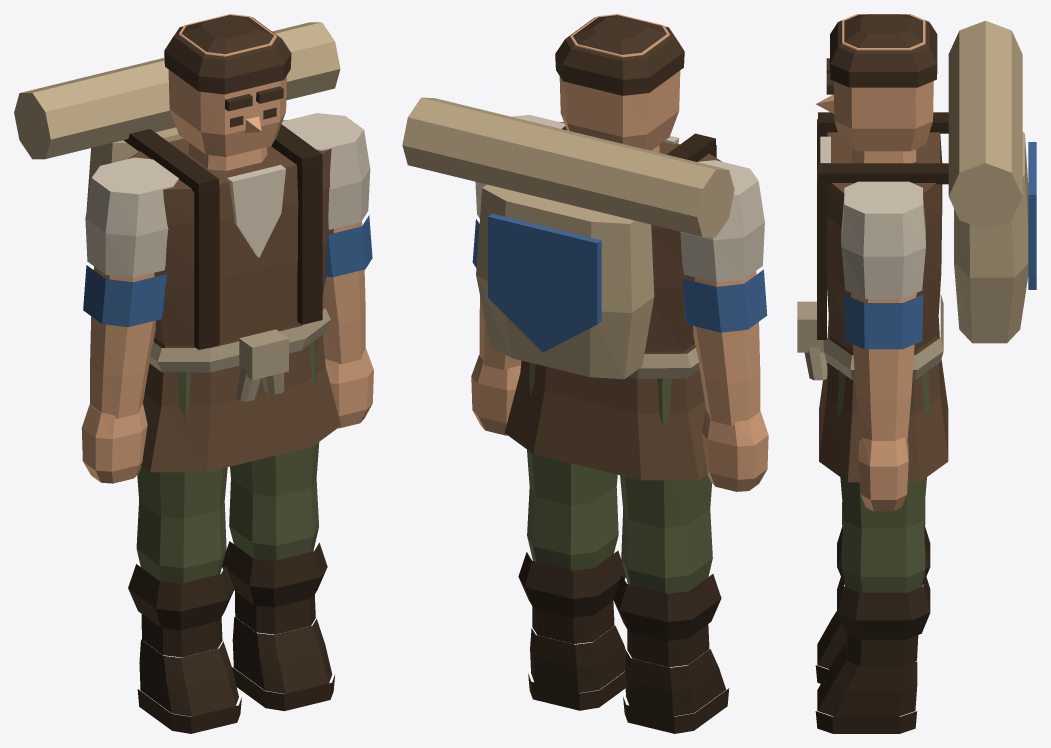
The model's file is traveller-lv1.glb.
The picture shows the model from 3 angles, left to right: view 1: azimuth 30°, elevation 25°; view 2: azimuth 150°, elevation 25°; view 3: azimuth 270°, elevation 25°; orthographic projection.
Parts seen in each view (by area): view 1: leather, tunic, skin, pants, linen, canvas, dark, rope, blue; view 2: canvas, leather, tunic, skin, pants, blue, dark, linen, rope; view 3: canvas, leather, skin, tunic, linen, pants, dark, blue, rope.
Boxes of the visible parts, left/top/right/bottom form: leather: left=123, top=124, right=335, bottom=733; tunic: left=128, top=120, right=340, bottom=472; skin: left=81, top=14, right=373, bottom=483; pants: left=136, top=340, right=319, bottom=583; linen: left=85, top=113, right=370, bottom=277; canvas: left=14, top=22, right=340, bottom=208; dark: left=164, top=15, right=291, bottom=127; rope: left=149, top=308, right=330, bottom=401; blue: left=83, top=215, right=372, bottom=326; canvas: left=402, top=97, right=734, bottom=379; leather: left=518, top=126, right=729, bottom=733; tunic: left=504, top=122, right=721, bottom=480; skin: left=471, top=14, right=768, bottom=491; pants: left=527, top=362, right=712, bottom=593; blue: left=472, top=213, right=767, bottom=352; dark: left=555, top=15, right=684, bottom=95; linen: left=475, top=115, right=764, bottom=282; rope: left=628, top=347, right=699, bottom=378; canvas: left=948, top=20, right=1028, bottom=343; leather: left=815, top=112, right=948, bottom=733; skin: left=816, top=14, right=933, bottom=511; tunic: left=819, top=132, right=948, bottom=482; linen: left=820, top=136, right=925, bottom=298; pants: left=837, top=370, right=929, bottom=592; dark: left=826, top=14, right=937, bottom=94; blue: left=844, top=142, right=1036, bottom=349; rope: left=797, top=294, right=943, bottom=380.
Bounding box in the file's own units: 0.82 × 1.8 × 0.582.
